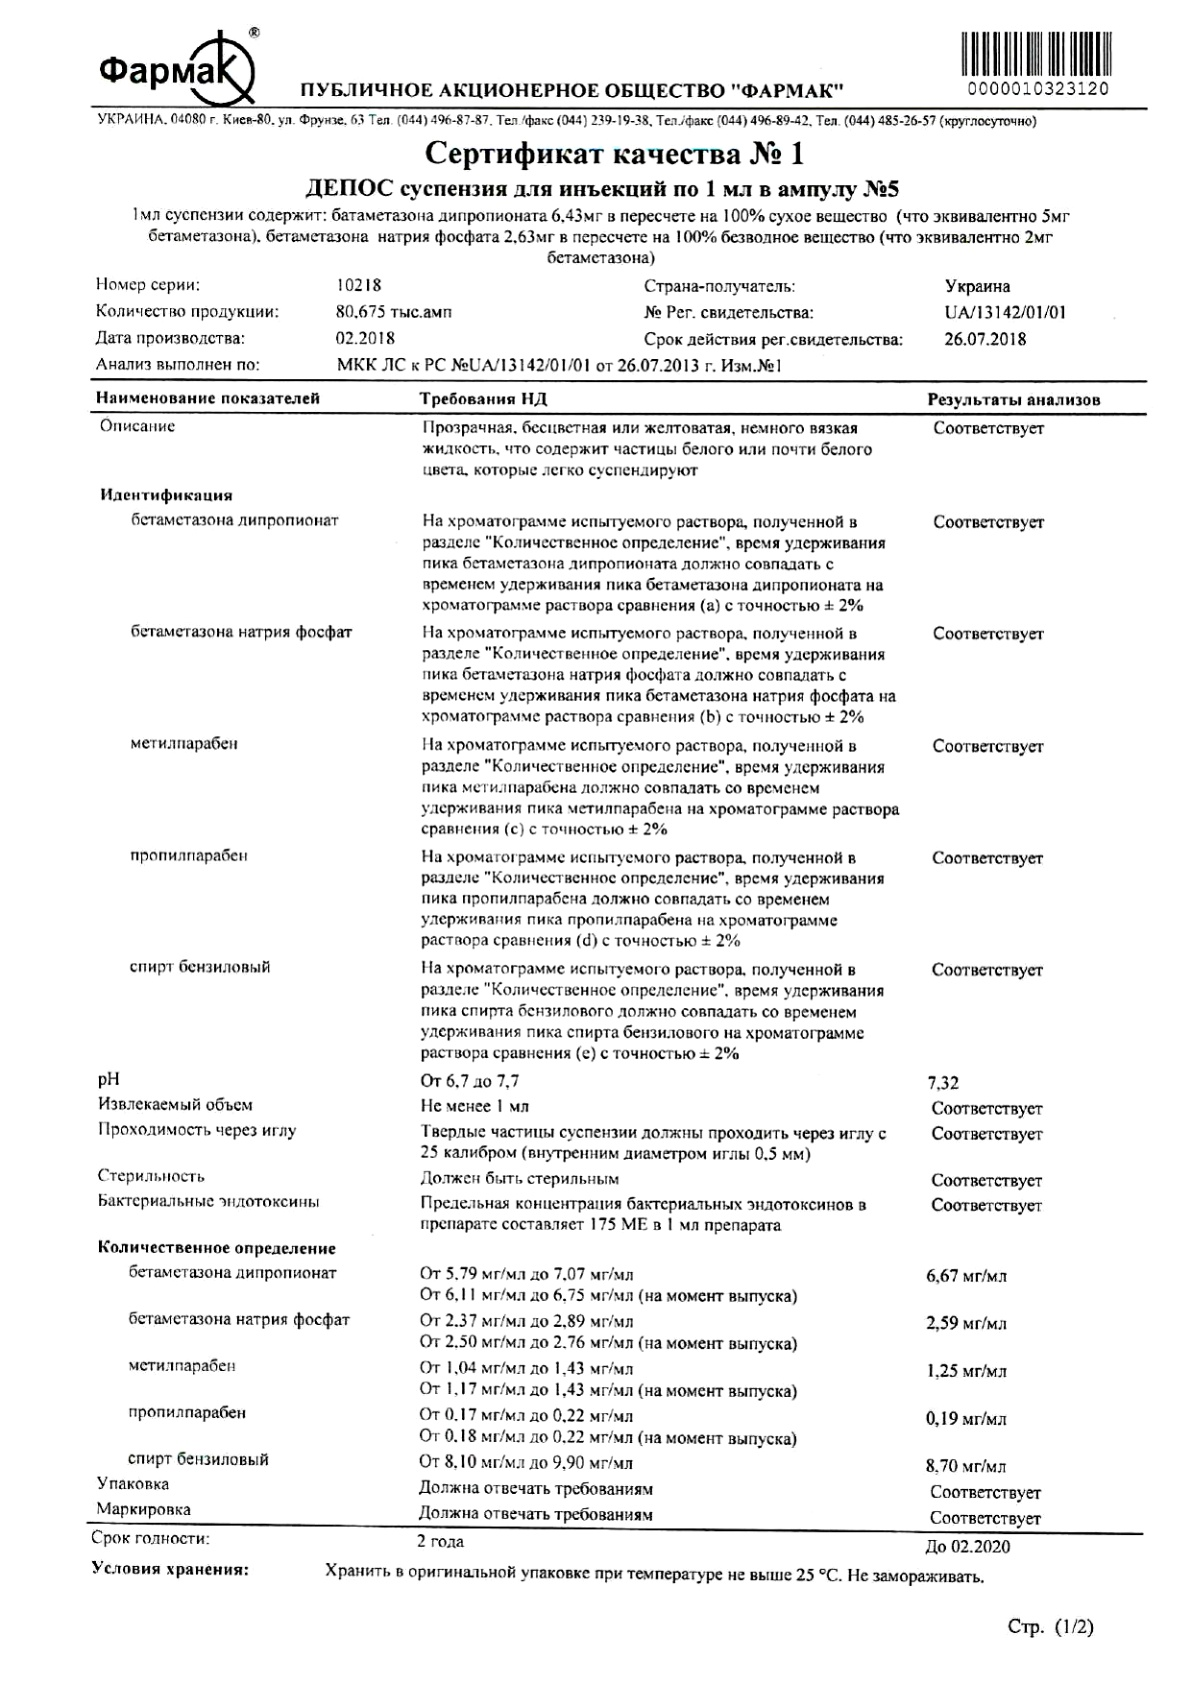partial_lined: (89, 377, 1143, 1554)
